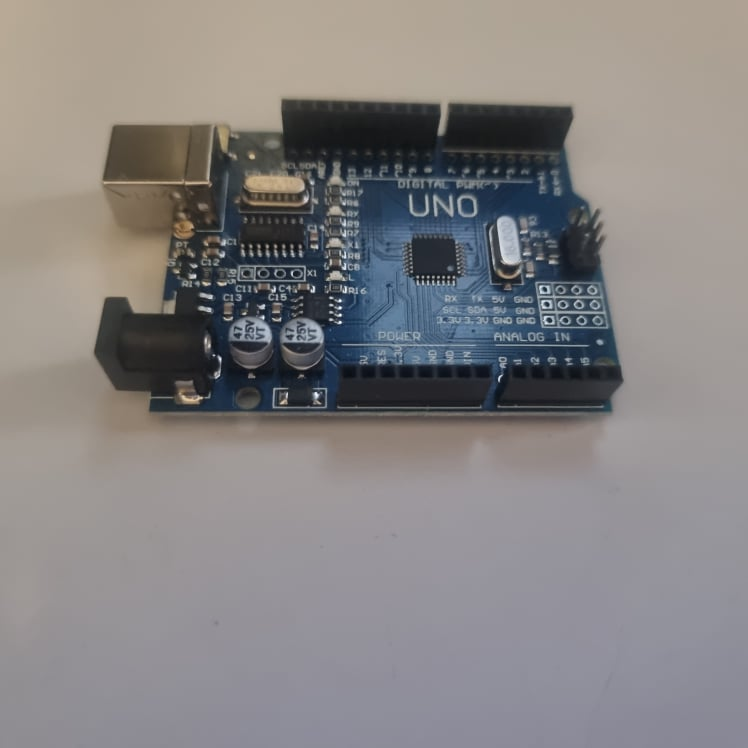UNO R3: (100, 96, 627, 417)
